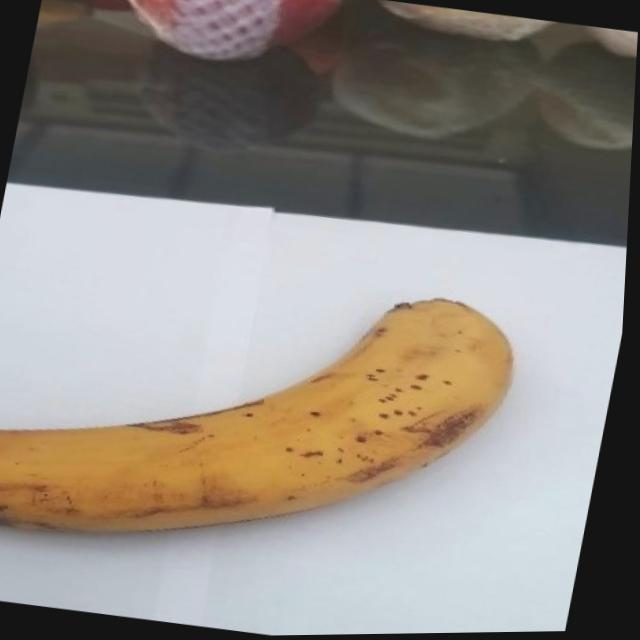Banana: (0, 236, 532, 596)
